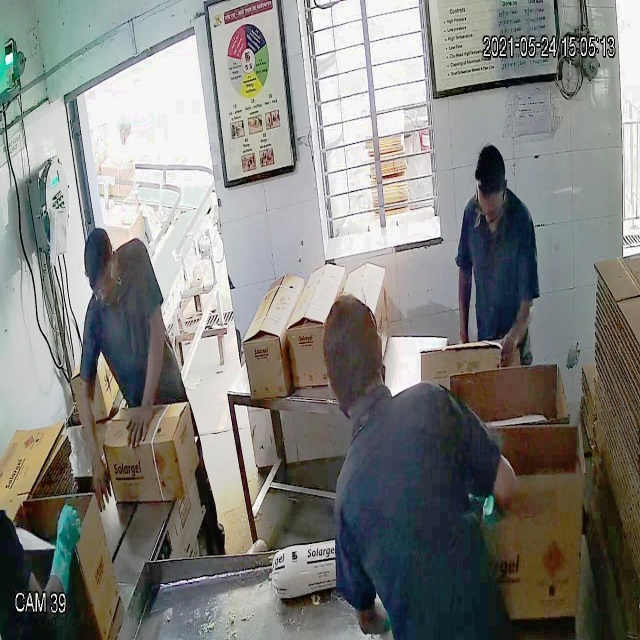Gafas: (85, 270, 117, 304)
